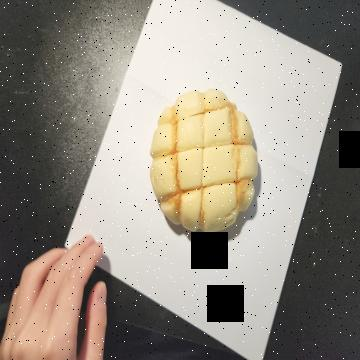melon_bread: (148, 90, 260, 238)
